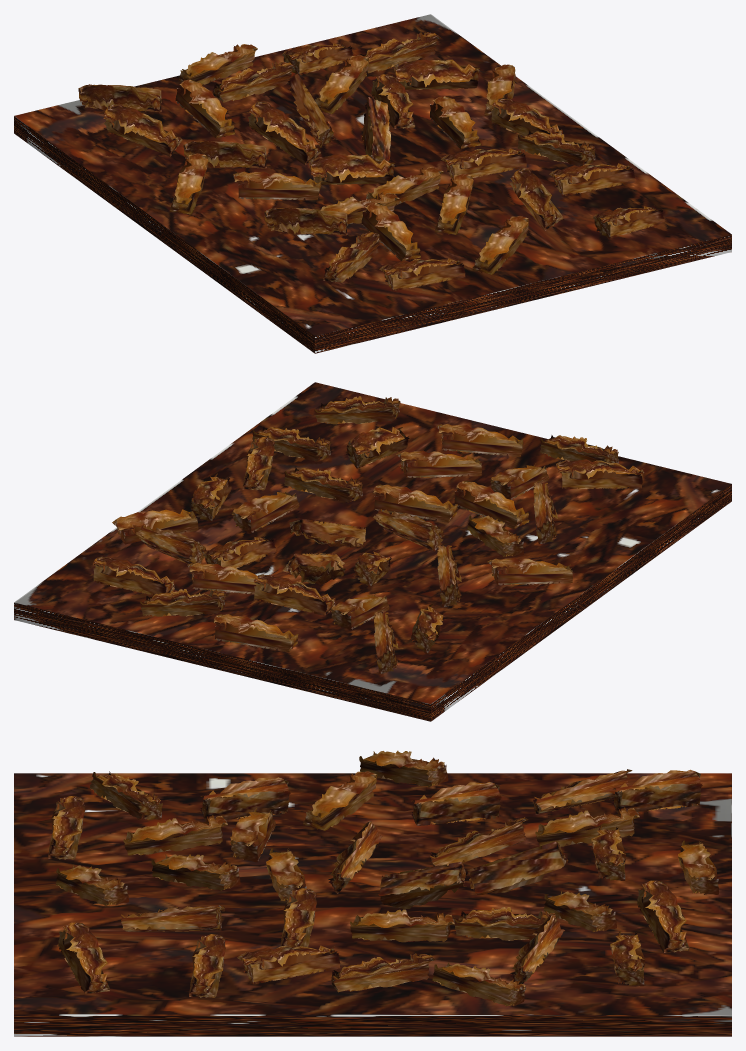
Rendered from shoarma_hoopje_alt.glb.
3 views of the same model, one above another, from view 1: azimuth 30°, elevation 25°; view 2: azimuth 150°, elevation 25°; view 3: azimuth 270°, elevation 25° (orthographic). The views are drawn at different scales.
Parts seen in each view (by area): view 1: Cube.363, Cube.122, Cube.126, Cube.339, Cube.322, Cube.120, Cube.336, Cube.116, Cube.007, Cube.003, Cube.130, Cube.000 (+22 smaller); view 2: Cube.363, Cube.330, Cube.001, Cube.107, Cube.328, Cube.119, Cube.345, Cube.005, Cube.325, Cube.002, Cube.337, Cube.341 (+22 smaller); view 3: Cube.363, Cube.340, Cube.342, Cube.000, Cube.324, Cube.336, Cube.004, Cube.108, Cube.129, Cube.127, Cube.337, Cube.003 (+22 smaller).
Boxes of the visible parts, x1,y1,x2,y2 form: Cube.363: (14, 14, 731, 353); Cube.122: (308, 154, 395, 184); Cube.126: (393, 59, 479, 89); Cube.339: (248, 101, 320, 165); Cube.322: (103, 104, 182, 156); Cube.120: (233, 171, 321, 200); Cube.336: (264, 207, 347, 235); Cube.116: (549, 163, 634, 196); Cube.007: (379, 258, 465, 290); Cube.003: (175, 79, 235, 138); Cube.130: (441, 148, 526, 179); Cube.000: (78, 84, 161, 112); Cube.363: (14, 382, 731, 721); Cube.330: (556, 459, 644, 488); Cube.001: (213, 614, 298, 652); Cube.107: (253, 574, 335, 615); Cube.328: (373, 484, 457, 522); Cube.119: (93, 556, 174, 595); Cube.345: (437, 424, 524, 456); Cube.005: (454, 480, 529, 529); Cube.325: (396, 450, 481, 477); Cube.002: (487, 557, 572, 585); Cube.337: (140, 589, 225, 616); Cube.341: (314, 396, 400, 424); Cube.363: (14, 773, 731, 1036); Cube.340: (467, 841, 568, 894); Cube.342: (411, 782, 501, 825); Cube.000: (612, 769, 702, 812); Cube.324: (378, 862, 467, 909); Cube.336: (200, 777, 290, 820); Cube.004: (237, 945, 340, 984); Cube.108: (123, 815, 227, 855); Cube.129: (350, 909, 454, 942); Cube.127: (331, 953, 435, 992); Cube.337: (637, 880, 689, 952); Cube.003: (535, 807, 639, 846).
Bounding box in the file's own units: 1.04 × 0.1503 × 1.31.
Materials: 19 (19 with a texture image).
